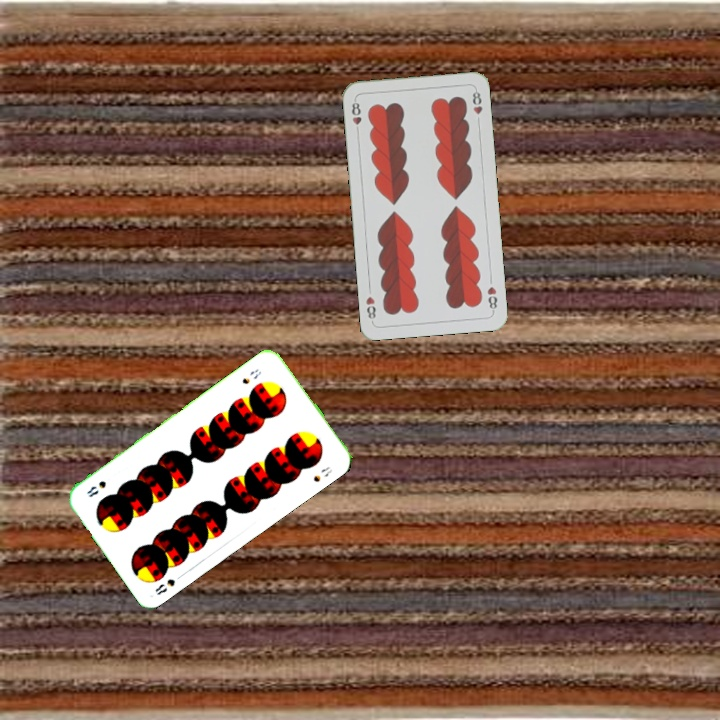H8: (348, 96, 364, 136), (483, 282, 500, 314)
S8: (151, 570, 187, 598), (238, 365, 264, 387)
